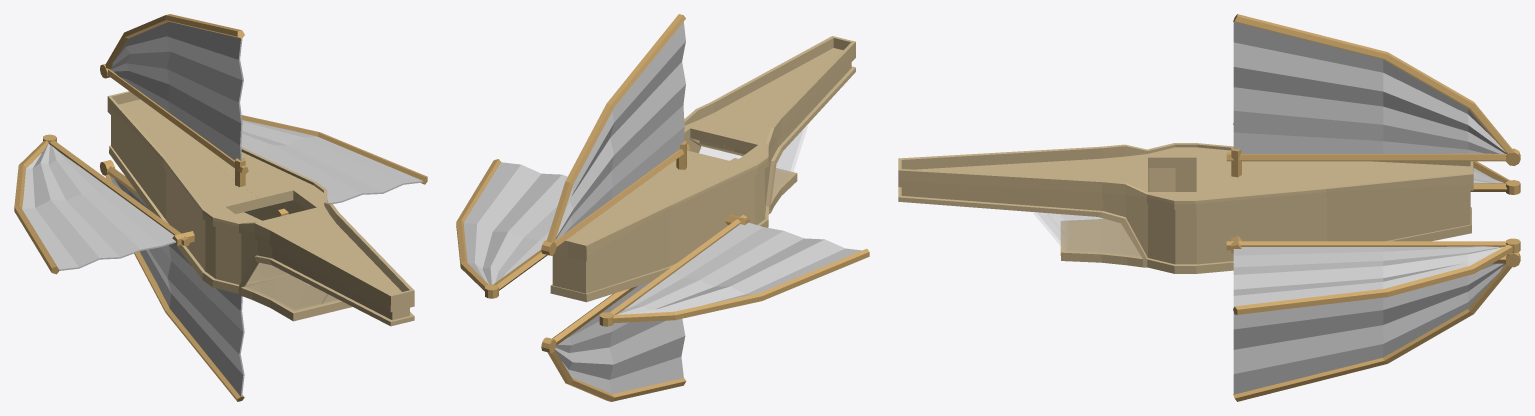
File: Solo.fbx
3 renders of one model, left to right at view 1: azimuth 30°, elevation 25°; view 2: azimuth 150°, elevation 25°; view 3: azimuth 270°, elevation 25°, orthographic. The views are drawn at different scales.
Parts seen in each view (by area): view 1: Cube, Plane.003, Plane.001, Plane.002, Plane.000, Cube.002, Cylinder.005, Cylinder.010, Cylinder.008, Cylinder.002, Cylinder.009, Cylinder.003; view 2: Cube, Plane.003, Plane.001, Plane.000, Plane.002, Cylinder.005, Cylinder.010, Cylinder.008, Cylinder.002, Cube.002, Cylinder.009, Cylinder.003 (+2 smaller); view 3: Cube, Plane.003, Plane.002, Plane.000, Cube.002, Cylinder.010, Cylinder.002, Cylinder.008, Cylinder.009, Cylinder.000.
Part boxes in pixels (x1,y1,x2,y2): Cube: (107,91,414,326); Plane.003: (110,21,243,160); Plane.001: (22,144,175,270); Plane.002: (109,175,244,396); Plane.000: (241,120,423,203); Cube.002: (244,263,337,309); Cylinder.005: (14,140,59,274); Cylinder.010: (105,14,244,68); Cylinder.008: (105,174,244,401); Cylinder.002: (241,115,427,184); Cylinder.009: (107,69,248,174); Cylinder.003: (49,140,190,246); Cube: (550,36,855,302); Plane.003: (555,22,685,239); Plane.001: (616,222,861,314); Plane.000: (463,162,567,284); Plane.002: (555,282,685,393); Cylinder.005: (612,248,869,323); Cylinder.010: (546,14,685,242); Cylinder.008: (547,350,686,401); Cylinder.002: (456,159,500,291); Cube.002: (699,126,807,192); Cylinder.009: (555,144,689,246); Cylinder.003: (610,214,747,314); Cube: (898,143,1473,273); Plane.003: (1233,22,1506,153); Plane.002: (1233,263,1505,394); Plane.000: (1233,246,1503,307); Cube.002: (1033,212,1140,256); Cylinder.010: (1233,14,1512,153); Cylinder.002: (1233,244,1512,314); Cylinder.008: (1233,263,1511,401); Cylinder.009: (1226,152,1507,161); Cylinder.000: (1226,241,1506,250).
Bounding box in the file's own units: 2290 × 2157 × 3155.
